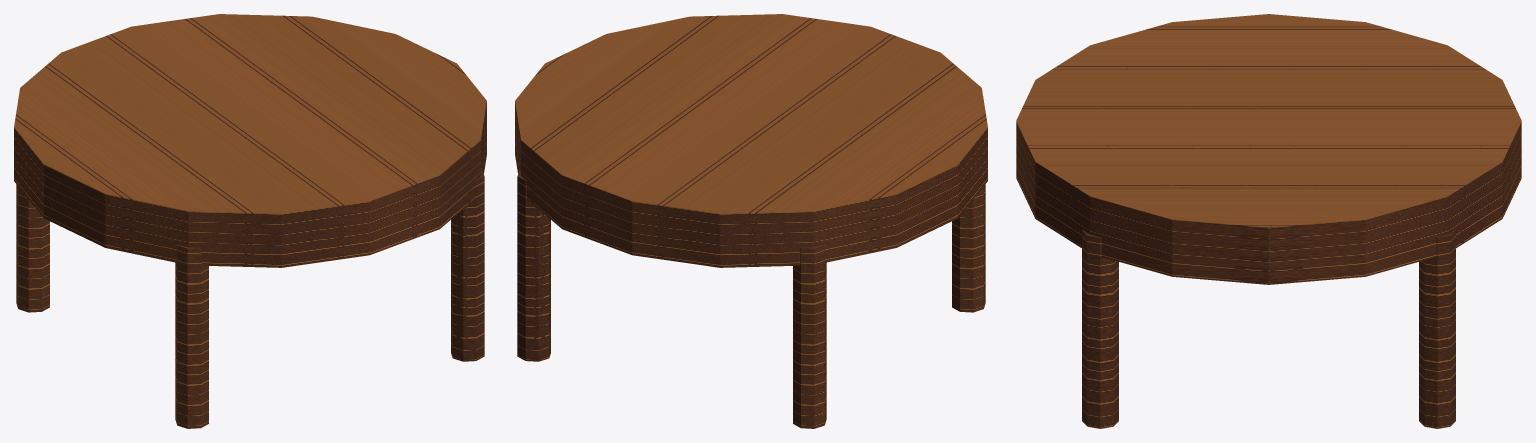
File: mesa.obj
The picture shows the model from 3 angles, left to right: view 1: azimuth 30°, elevation 25°; view 2: azimuth 150°, elevation 25°; view 3: azimuth 270°, elevation 25°; orthographic projection. The views are drawn at different scales.
Visible parts, largest first — view 1: mesa; view 2: mesa; view 3: mesa.
Part boxes in pixels (x1,y1,x2,y2): mesa: [14, 14, 486, 428]; mesa: [515, 14, 987, 428]; mesa: [1016, 14, 1521, 428].
Bounding box in the file's own units: 0.96 × 0.48 × 0.96.
1 material, 1 textured.
